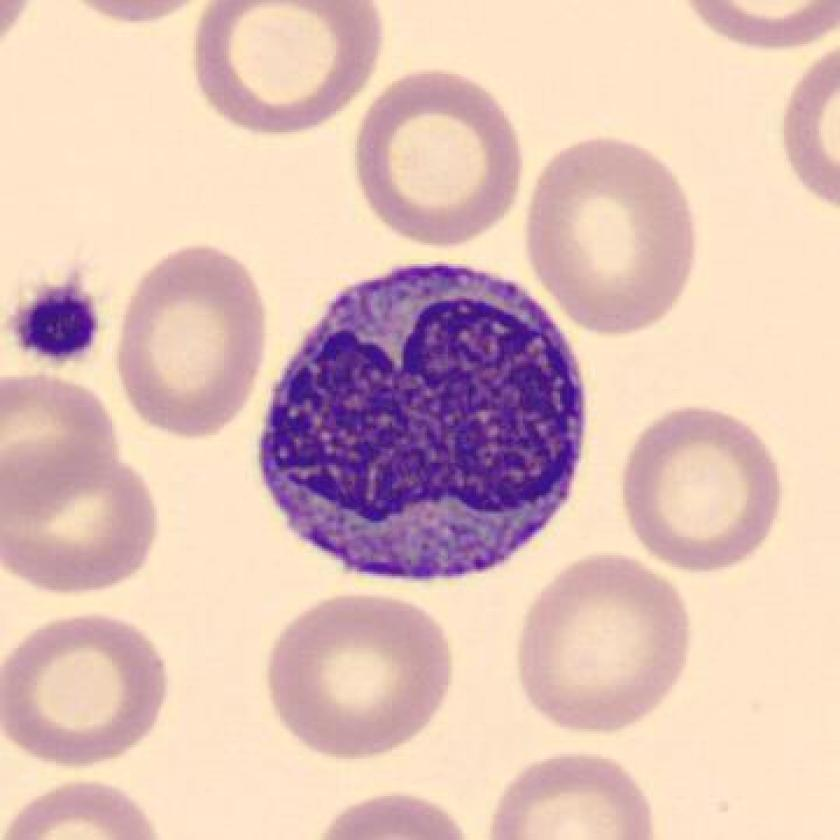monocyte: (246, 242, 608, 614)
